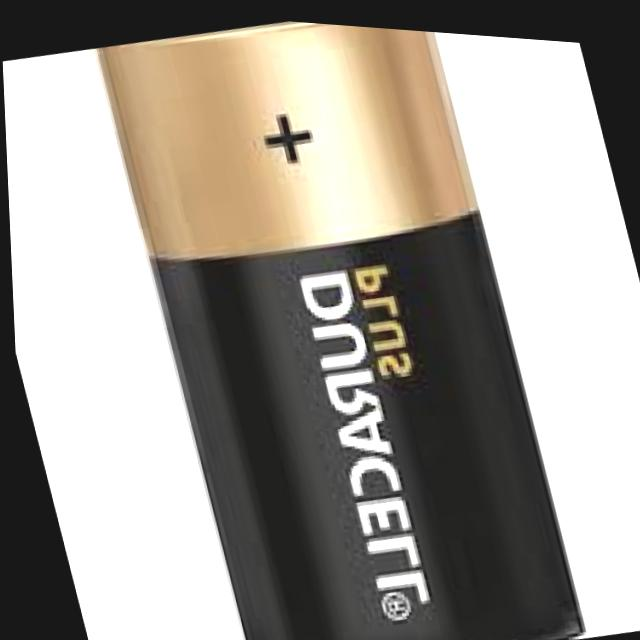B3: (12, 1, 625, 640)
